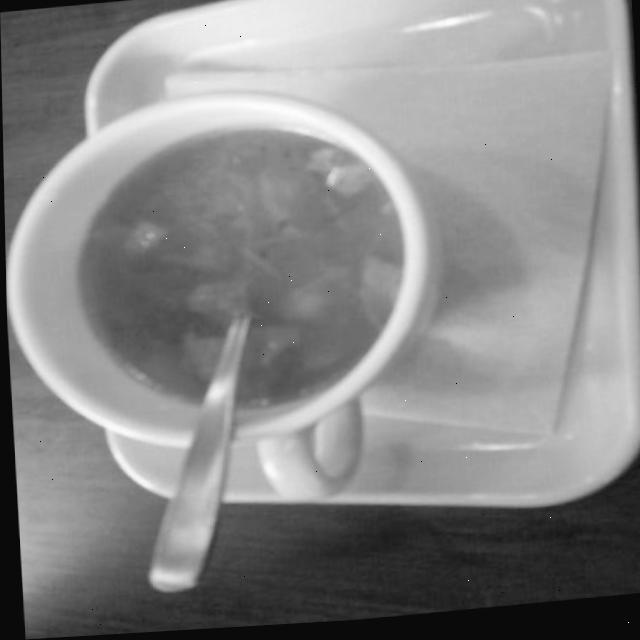汤锅炖物: (2, 90, 438, 508)
